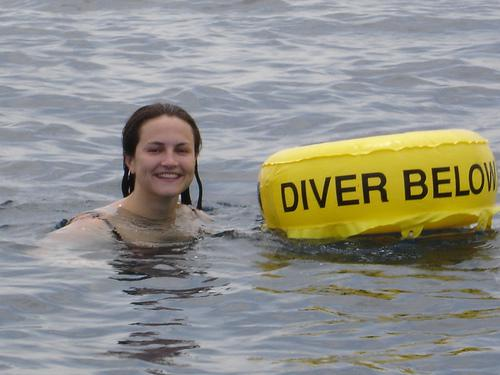swimmer: (40, 100, 219, 259)
